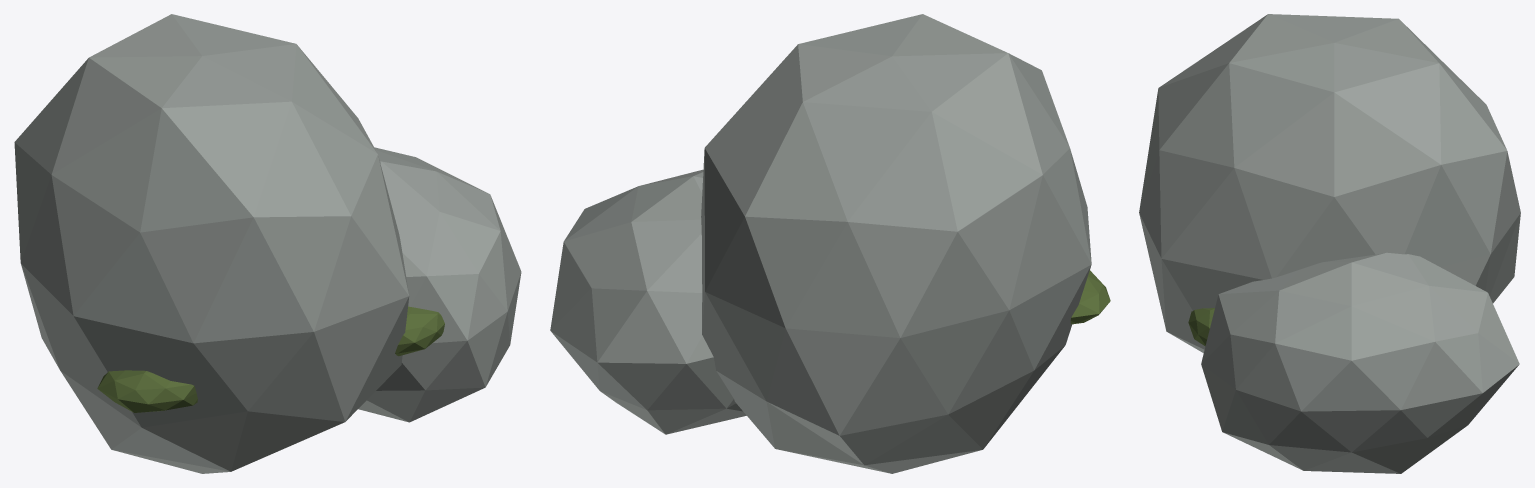
File: coastal_granite.glb
3 renders of one model, left to right at view 1: azimuth 30°, elevation 25°; view 2: azimuth 150°, elevation 25°; view 3: azimuth 270°, elevation 25°, orthographic. The views are drawn at different scales.
Visible parts, largest first — view 1: MG2 coastal_granite MG2 Stone granite, MG2 coastal_granite MG2 Moss; view 2: MG2 coastal_granite MG2 Stone granite, MG2 coastal_granite MG2 Moss; view 3: MG2 coastal_granite MG2 Stone granite, MG2 coastal_granite MG2 Moss.
Part boxes in pixels (bbox=[...]): MG2 coastal_granite MG2 Stone granite: bbox=[14, 14, 521, 473]; MG2 coastal_granite MG2 Moss: bbox=[97, 306, 444, 412]; MG2 coastal_granite MG2 Stone granite: bbox=[550, 14, 1091, 473]; MG2 coastal_granite MG2 Moss: bbox=[1070, 270, 1110, 324]; MG2 coastal_granite MG2 Stone granite: bbox=[1139, 14, 1520, 473]; MG2 coastal_granite MG2 Moss: bbox=[1188, 308, 1214, 346].
Bounding box in the file's own units: 0.5405 × 0.4647 × 0.44.
